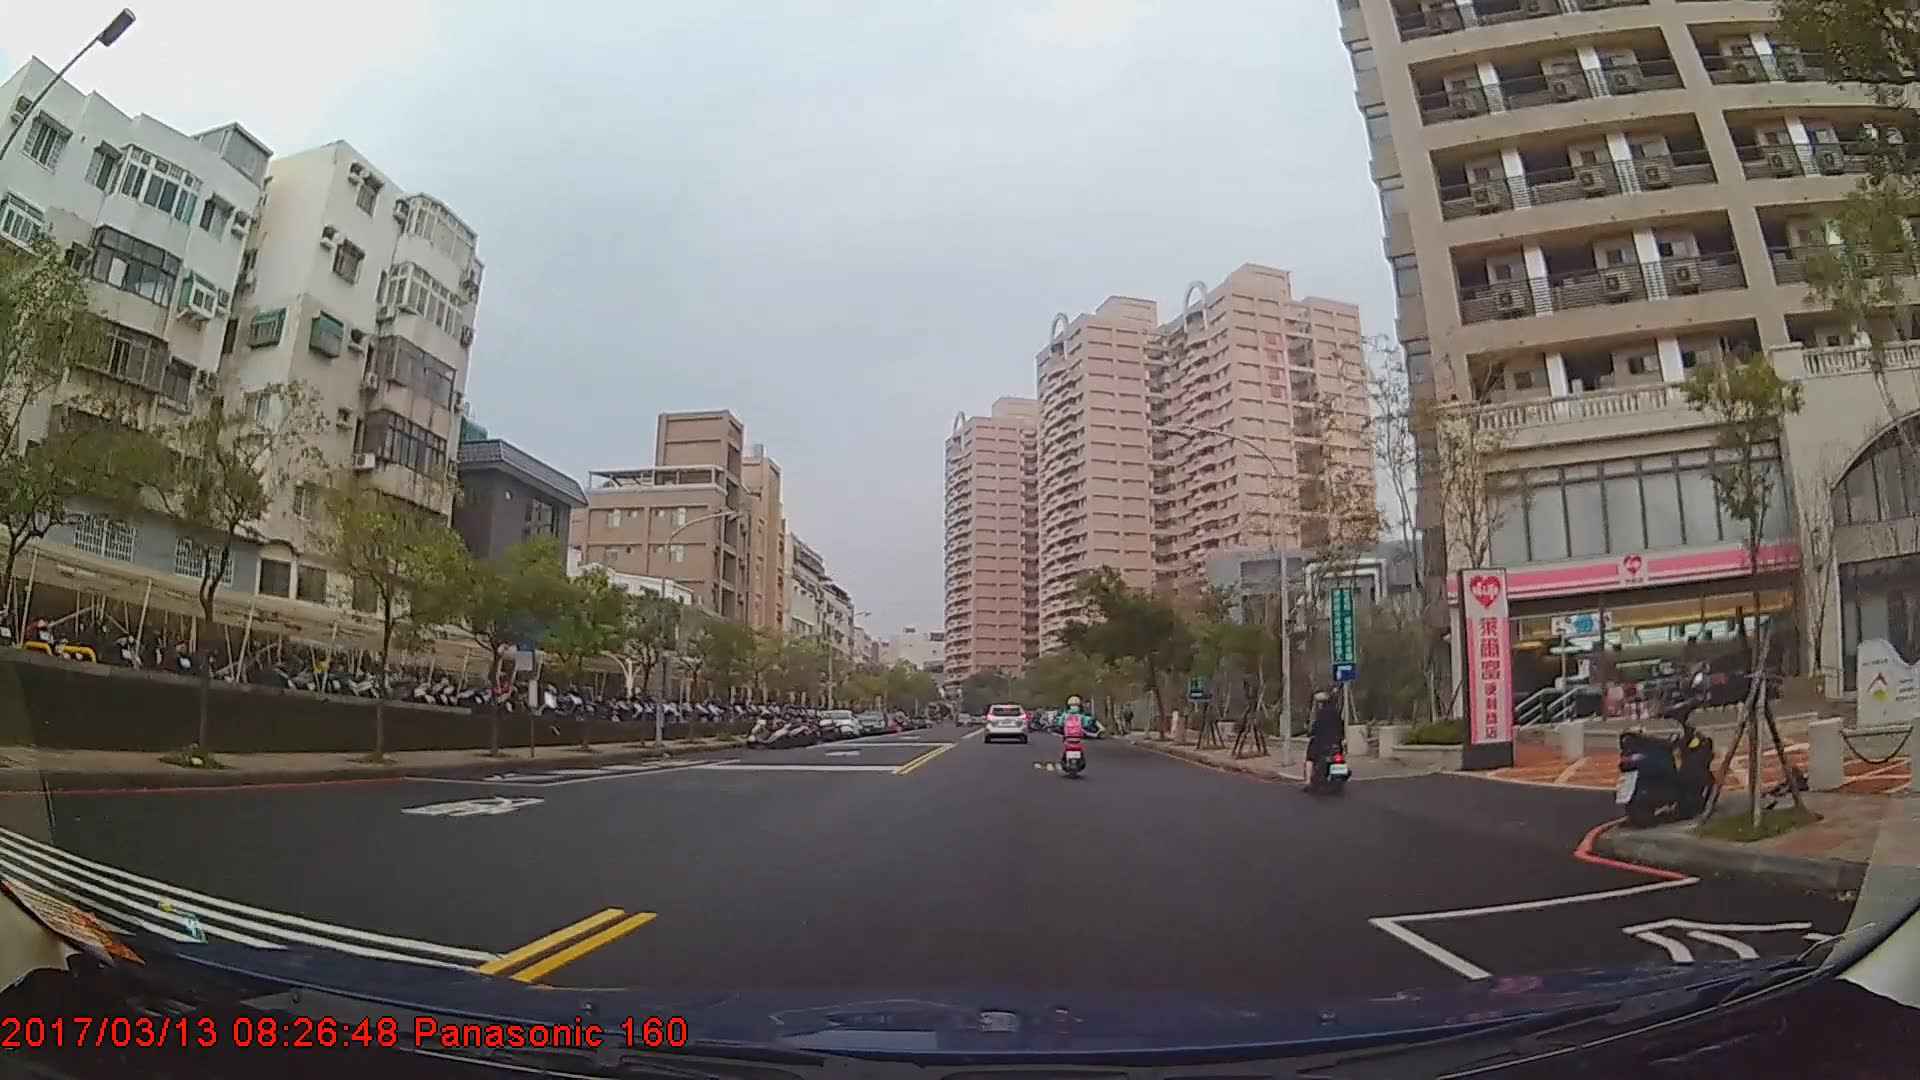rider: (1305, 687, 1351, 788), (1057, 697, 1095, 778)
vehicle: (980, 702, 1031, 741), (818, 706, 857, 735)
